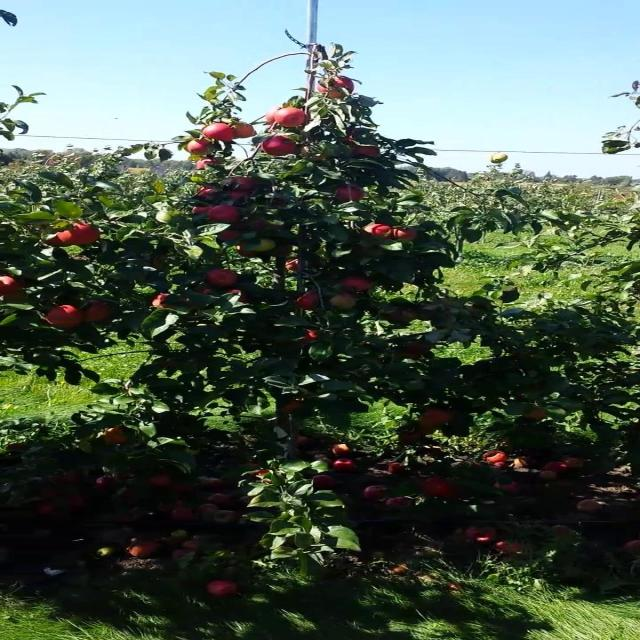apple: (42, 304, 84, 328), (314, 75, 356, 99), (61, 221, 100, 245), (259, 134, 297, 156), (234, 238, 274, 256), (396, 425, 436, 443), (201, 122, 235, 142), (361, 222, 395, 242), (274, 107, 308, 127), (204, 267, 238, 287), (417, 407, 453, 425), (206, 204, 240, 222), (338, 276, 372, 294), (81, 301, 110, 322), (99, 425, 129, 445), (332, 184, 364, 202), (396, 428, 432, 444), (294, 291, 322, 311), (327, 292, 358, 310), (398, 340, 428, 358), (291, 327, 320, 345), (277, 396, 306, 414), (223, 287, 253, 304), (0, 274, 23, 296), (341, 126, 369, 144), (297, 144, 328, 160), (149, 292, 176, 310), (246, 236, 276, 252), (229, 176, 257, 192), (184, 138, 212, 154), (44, 231, 72, 247), (195, 185, 222, 201), (232, 240, 257, 257), (351, 144, 381, 158), (263, 105, 284, 124), (230, 122, 254, 138), (193, 157, 220, 171), (392, 226, 418, 240), (520, 407, 548, 420), (248, 218, 276, 231), (262, 108, 281, 126), (216, 228, 242, 240), (148, 255, 168, 269), (227, 188, 250, 200), (284, 258, 302, 272), (192, 286, 215, 296), (190, 204, 210, 215), (268, 197, 286, 207), (230, 219, 247, 229)
